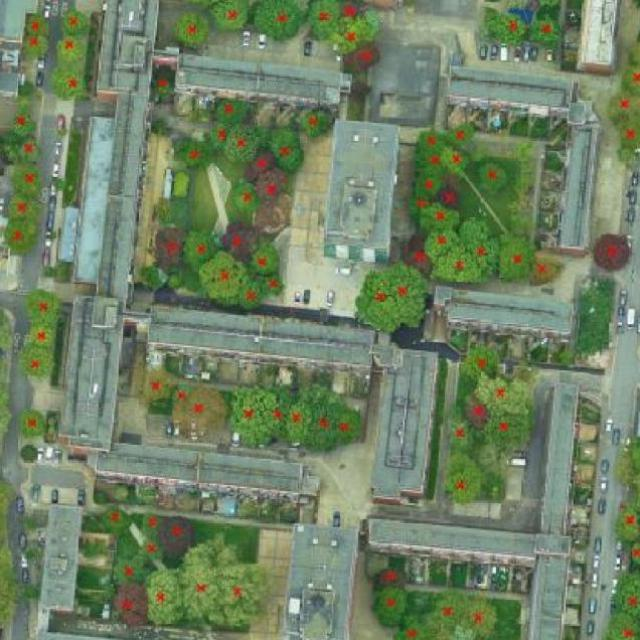tree: (209, 557, 275, 632), (351, 267, 404, 335), (224, 384, 276, 448), (382, 262, 430, 331), (174, 384, 229, 444), (194, 248, 249, 305), (178, 551, 220, 621), (458, 215, 503, 279), (303, 383, 344, 451), (440, 451, 487, 504), (145, 568, 185, 626), (428, 246, 487, 284), (470, 378, 532, 414), (480, 412, 534, 453), (331, 12, 380, 57), (589, 229, 635, 275), (46, 62, 95, 103), (497, 236, 539, 283), (252, 0, 304, 37), (156, 513, 198, 558), (368, 586, 410, 629), (21, 286, 67, 325), (180, 225, 218, 272), (482, 11, 530, 48), (220, 218, 261, 260), (111, 583, 146, 632), (269, 125, 306, 171), (260, 386, 292, 439), (460, 595, 501, 636), (415, 202, 466, 234), (0, 216, 41, 255), (460, 343, 500, 382), (525, 250, 566, 288), (222, 123, 258, 165), (151, 225, 186, 268), (523, 15, 567, 49), (170, 138, 213, 172), (342, 41, 386, 74), (208, 0, 251, 33), (404, 231, 434, 278), (173, 11, 210, 49), (307, 0, 343, 39), (108, 556, 150, 588), (445, 407, 474, 453), (138, 368, 176, 403), (422, 227, 456, 266), (612, 571, 640, 618), (390, 614, 440, 640), (473, 161, 509, 197), (16, 348, 56, 380), (252, 166, 286, 202), (606, 90, 640, 126), (432, 590, 464, 628), (161, 168, 196, 202), (238, 149, 274, 182), (369, 566, 411, 594), (332, 408, 364, 444), (248, 242, 280, 278), (286, 399, 311, 444), (297, 107, 333, 138), (230, 180, 262, 214), (612, 506, 640, 544), (10, 166, 44, 197), (16, 406, 47, 440), (6, 198, 44, 225), (147, 70, 179, 102), (52, 36, 86, 66), (601, 614, 640, 640), (466, 389, 490, 431), (22, 323, 59, 350), (441, 145, 470, 179), (408, 173, 447, 198), (212, 98, 248, 125), (444, 121, 475, 152), (98, 505, 132, 533), (58, 8, 90, 36), (236, 279, 264, 311), (431, 182, 460, 211), (19, 12, 51, 38), (414, 128, 446, 154), (414, 150, 446, 176), (260, 270, 288, 299), (6, 112, 38, 136), (139, 509, 165, 538), (17, 136, 43, 164), (137, 266, 165, 292), (206, 123, 230, 152), (404, 194, 432, 218), (168, 382, 194, 406), (139, 538, 163, 564), (334, 1, 365, 21), (620, 65, 640, 96), (0, 133, 19, 165), (617, 125, 640, 151), (21, 36, 48, 58), (250, 124, 272, 151), (542, 152, 566, 175), (16, 444, 39, 467), (168, 196, 190, 220), (613, 149, 639, 169), (149, 116, 171, 139), (13, 78, 36, 98), (163, 272, 185, 292), (628, 437, 640, 471), (90, 488, 110, 508), (629, 538, 640, 572), (110, 482, 128, 502), (538, 0, 562, 13), (504, 0, 532, 11), (41, 264, 58, 280), (628, 42, 640, 62), (566, 0, 584, 13), (52, 177, 66, 192), (634, 28, 640, 42)
